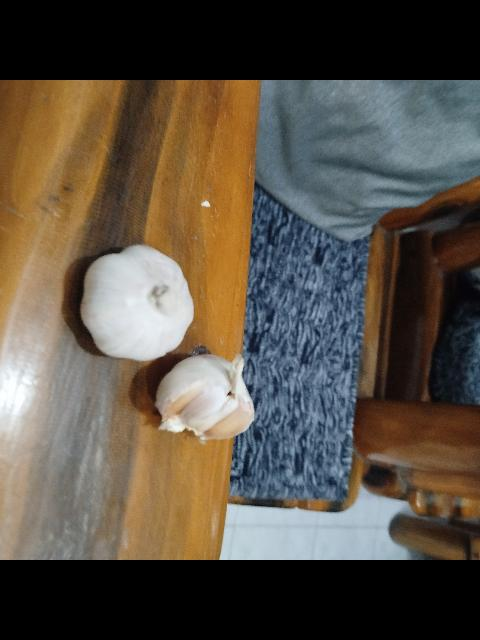garlic: (78, 245, 194, 362), (154, 354, 254, 444)
